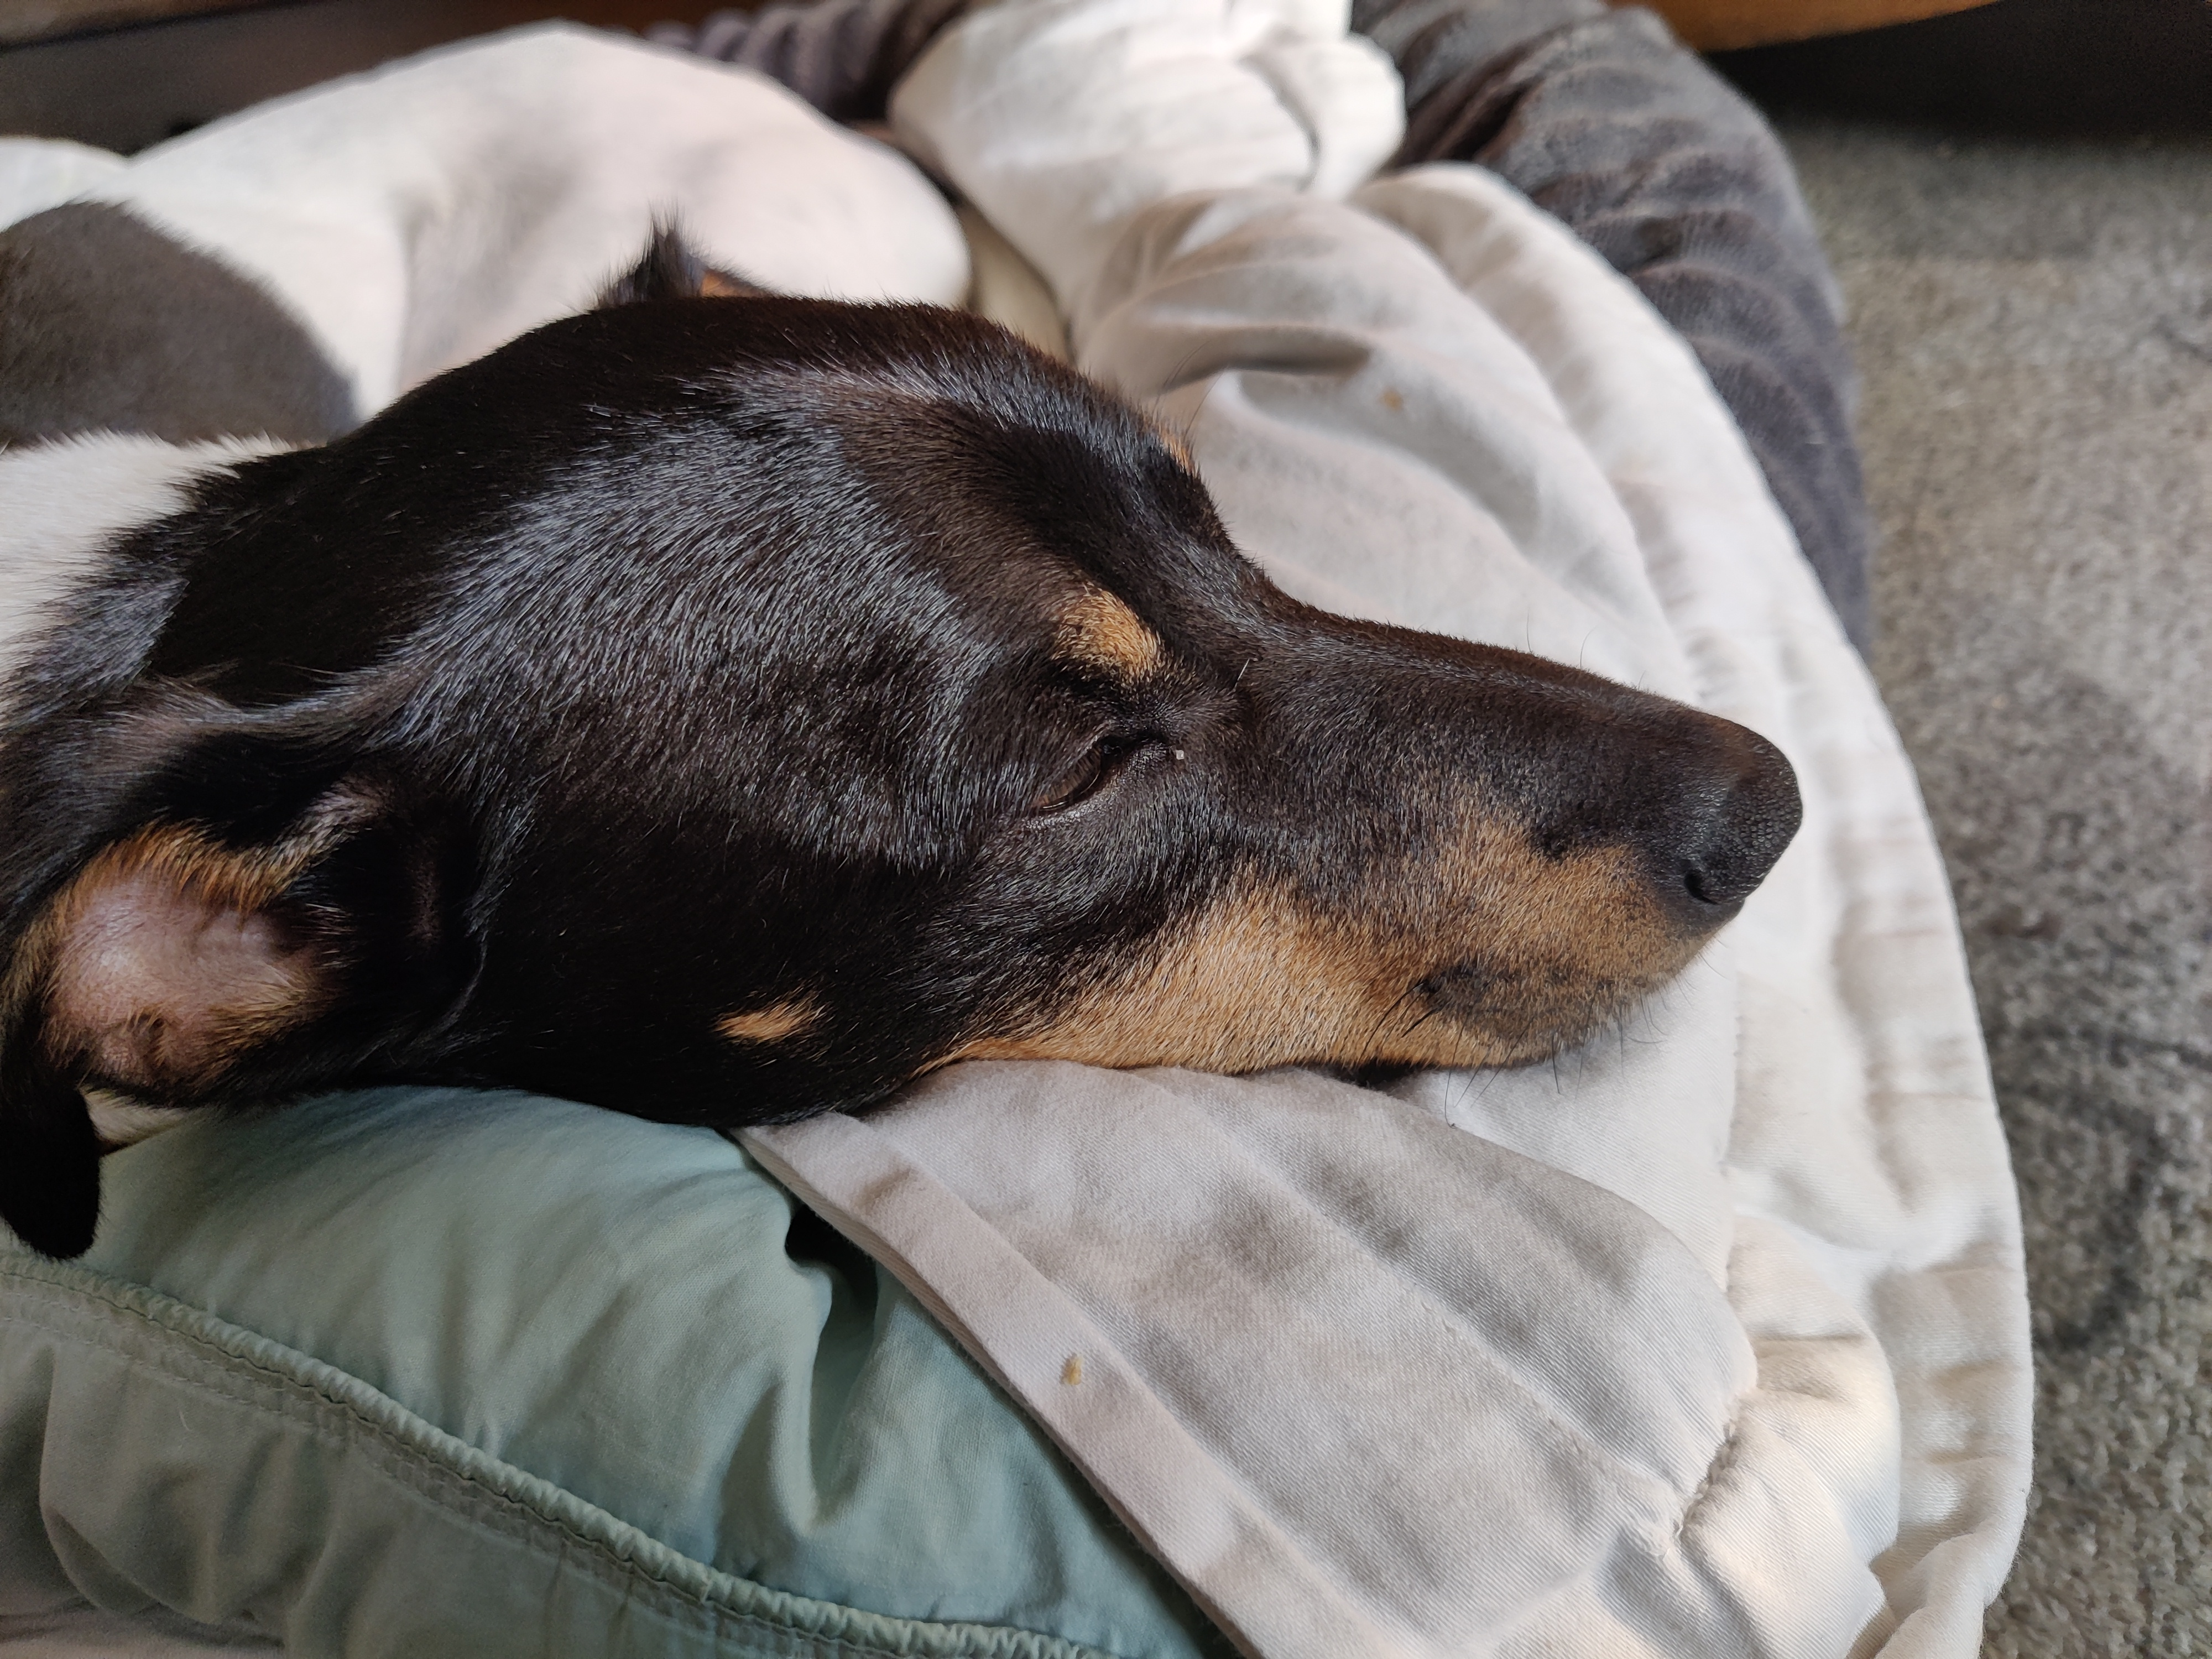Dog: (0, 0, 1825, 1281)
